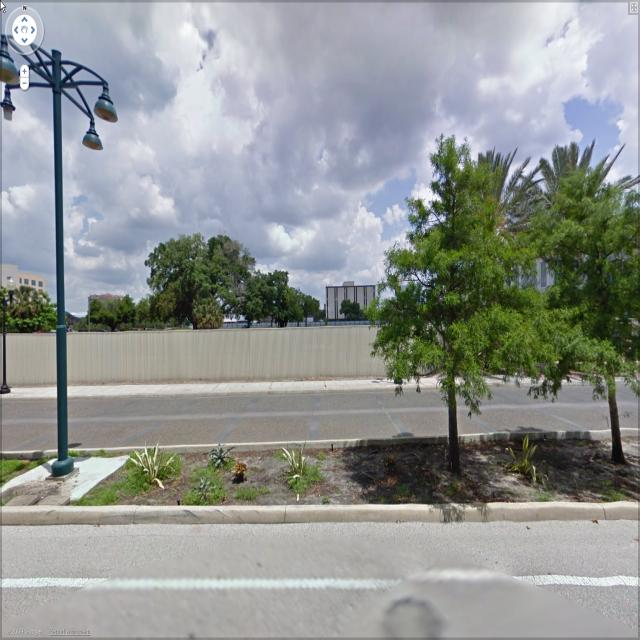b_1: (322, 274, 377, 324)
b_2: (0, 260, 50, 322), (85, 288, 135, 330)
